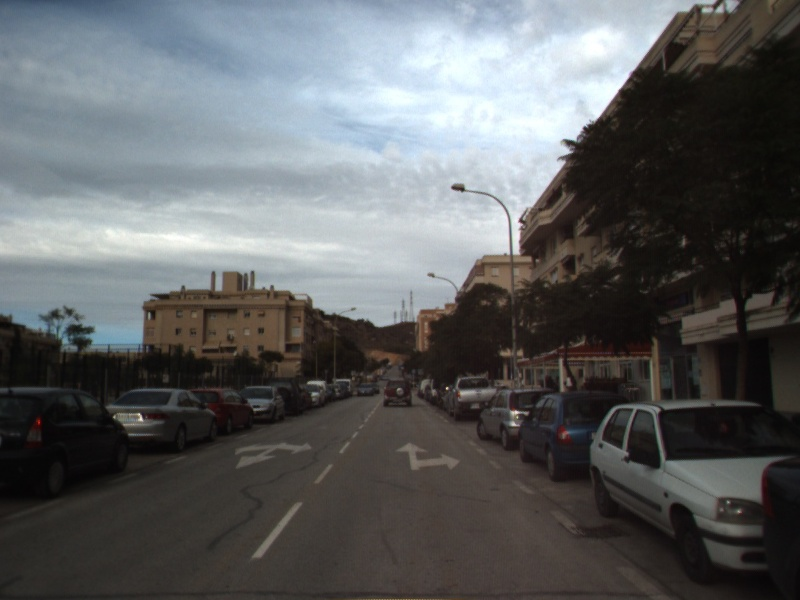STRAIGHT_RIGHT: (393, 440, 462, 472)
